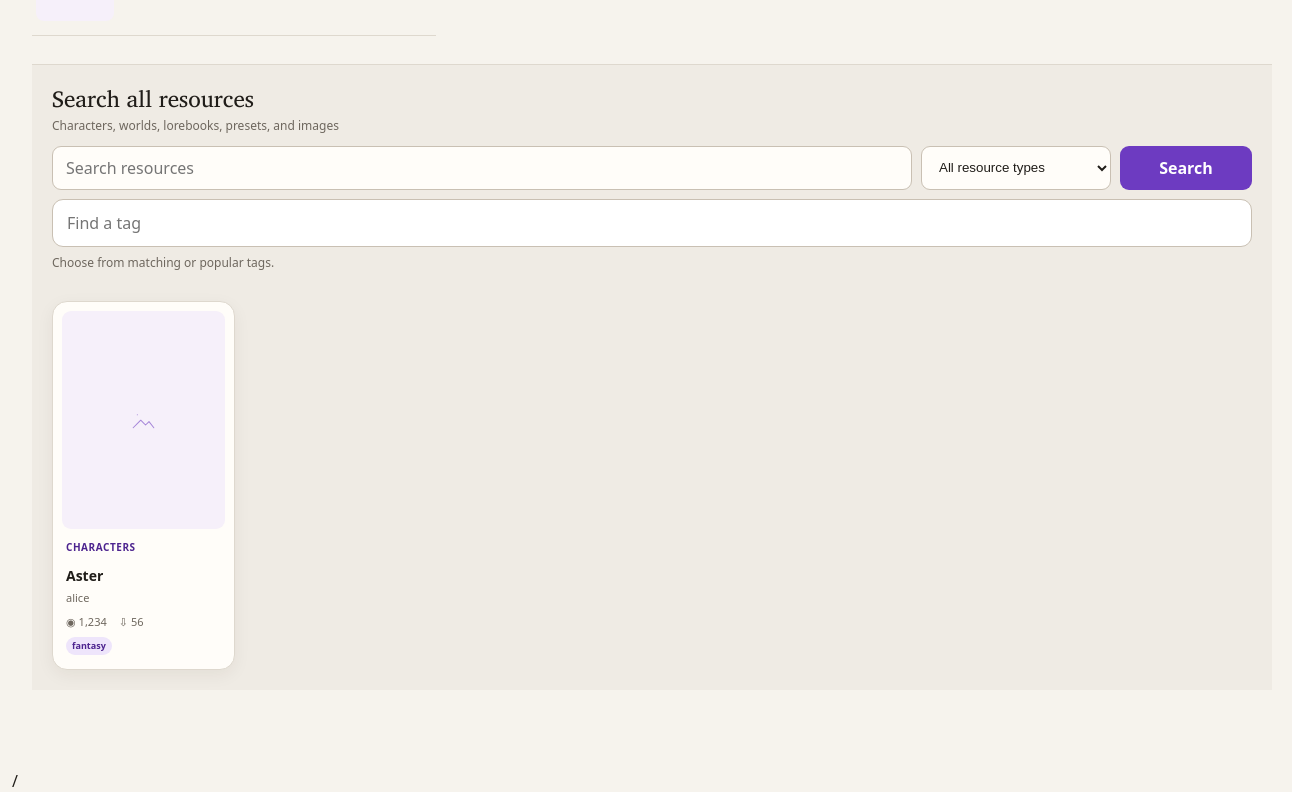
Test: loads catalogue cards with metrics and navigates to details
The image size is (1292, 792).
(page scrolled)
Click the heading "Aster": (85, 575) [66, 566, 103, 584]
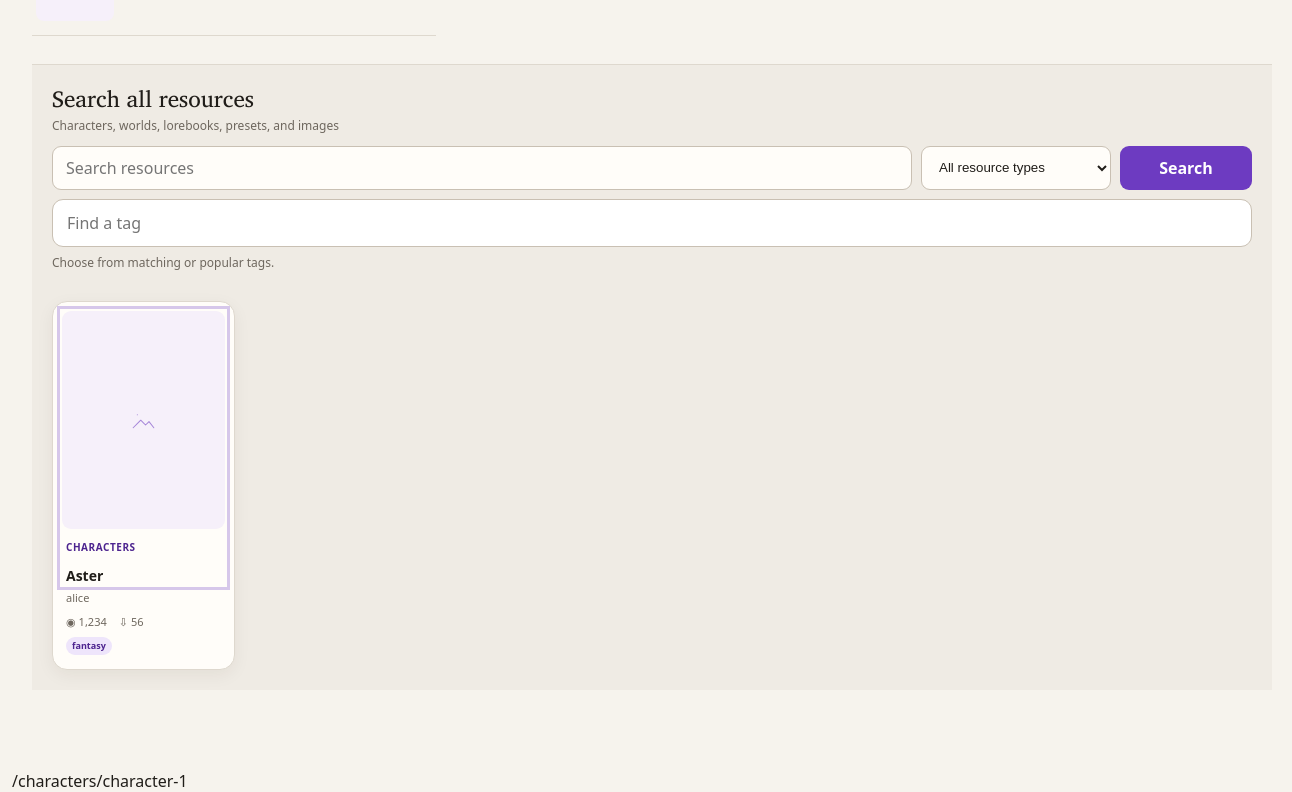
Check: the text with test id "location" reads "/characters/character-1", box [12, 770, 188, 791]
